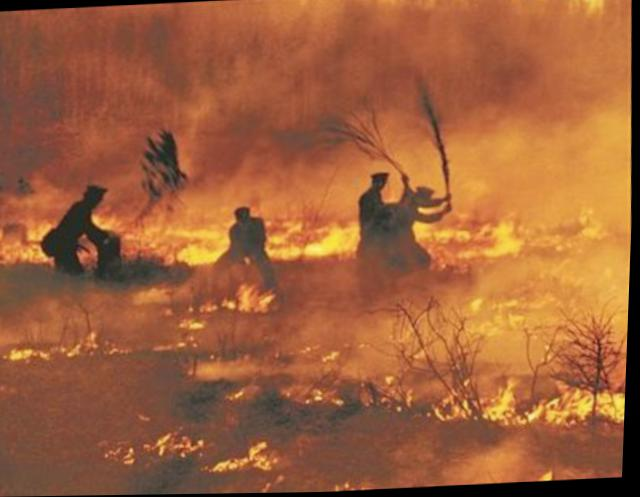fire: (0, 164, 634, 467)
